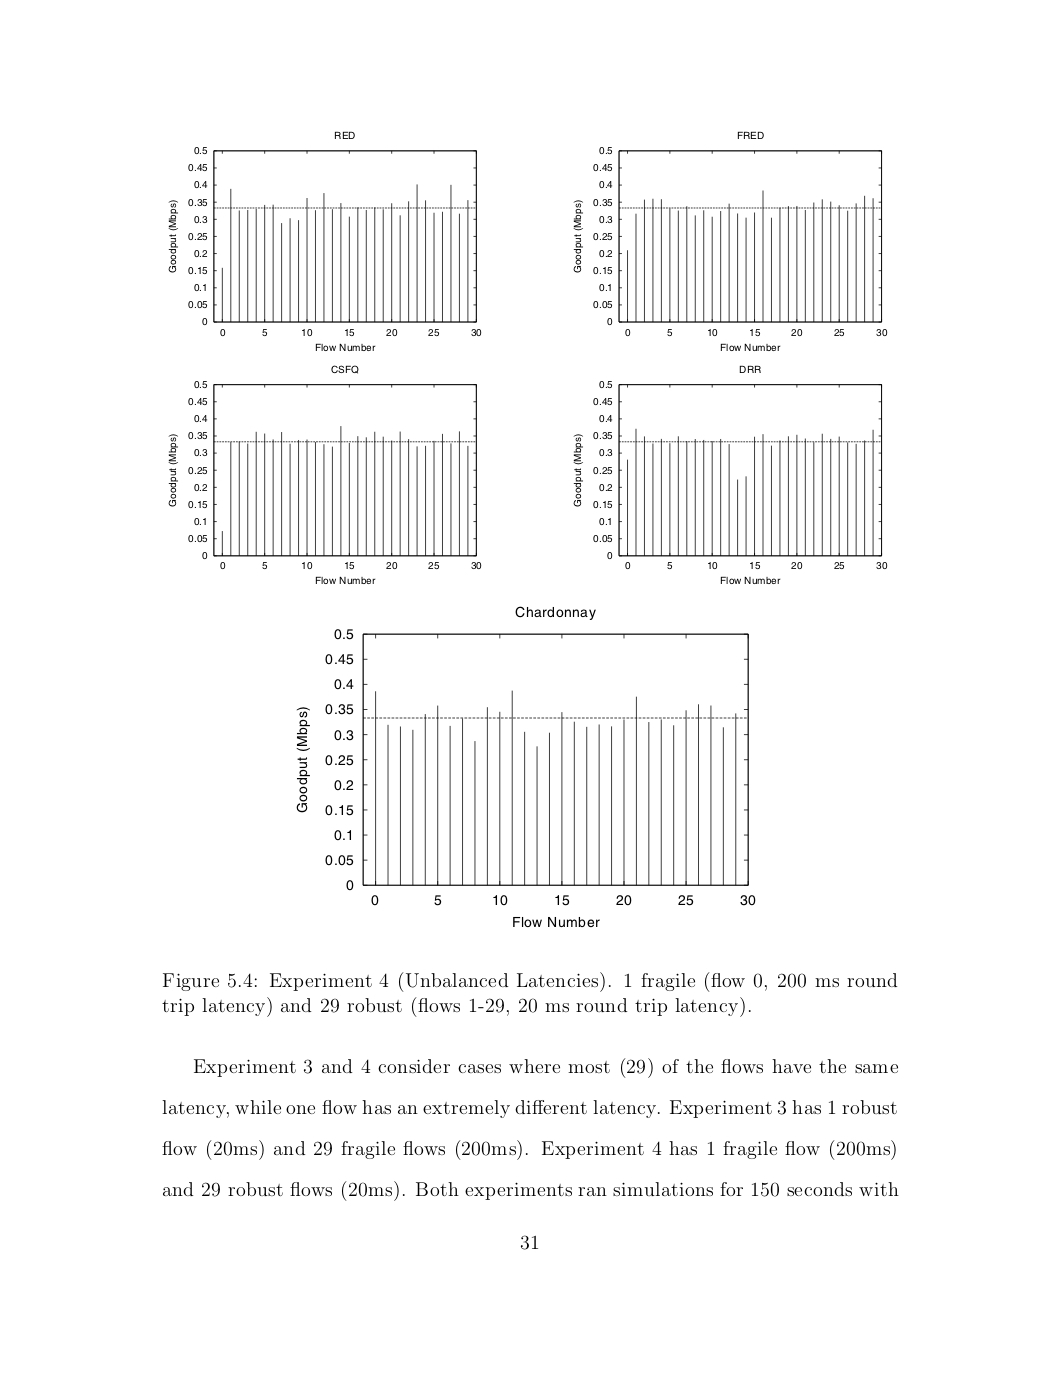figure: (296, 629, 755, 927), (573, 147, 887, 351), (168, 147, 481, 351), (573, 381, 887, 584), (168, 381, 481, 584)
